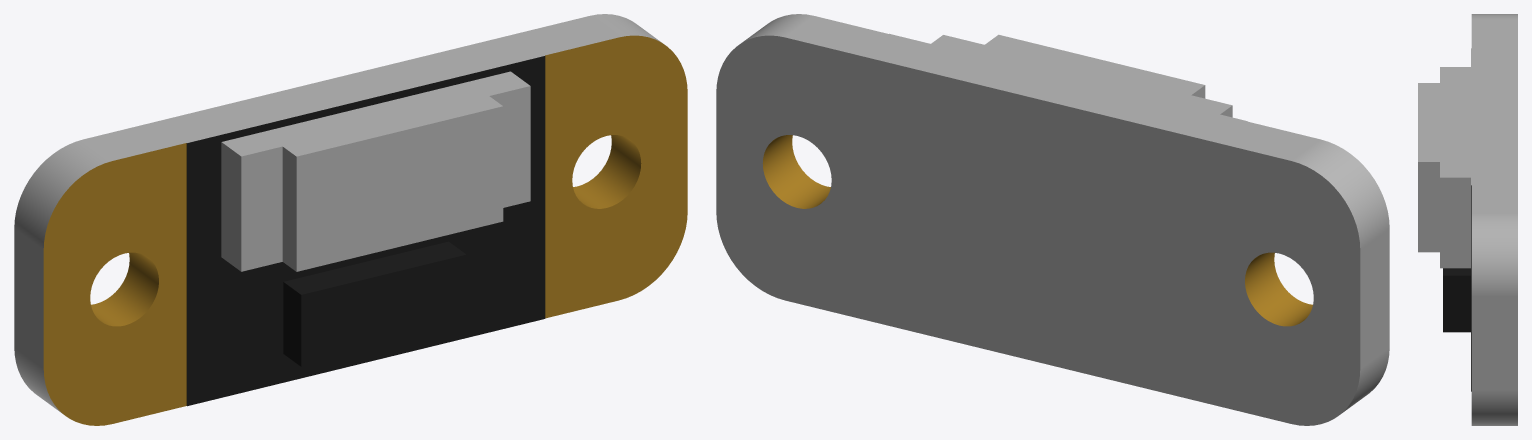
File: LED.obj
The picture shows the model from 3 angles, left to right: view 1: azimuth 30°, elevation 25°; view 2: azimuth 150°, elevation 25°; view 3: azimuth 270°, elevation 25°; orthographic projection. The views are drawn at different scales.
Visible parts, largest first — view 1: Body1; view 2: Body1; view 3: Body1.
Boxes of the visible parts, bbox=[...] form: Body1: bbox=[14, 14, 687, 425]; Body1: bbox=[716, 14, 1389, 425]; Body1: bbox=[1418, 14, 1517, 425].
Bounding box in the file's own units: 0.3681 × 0.1437 × 0.063.
